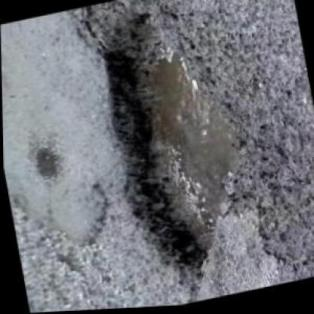Hueco: (86, 0, 265, 297), (22, 139, 65, 184)
